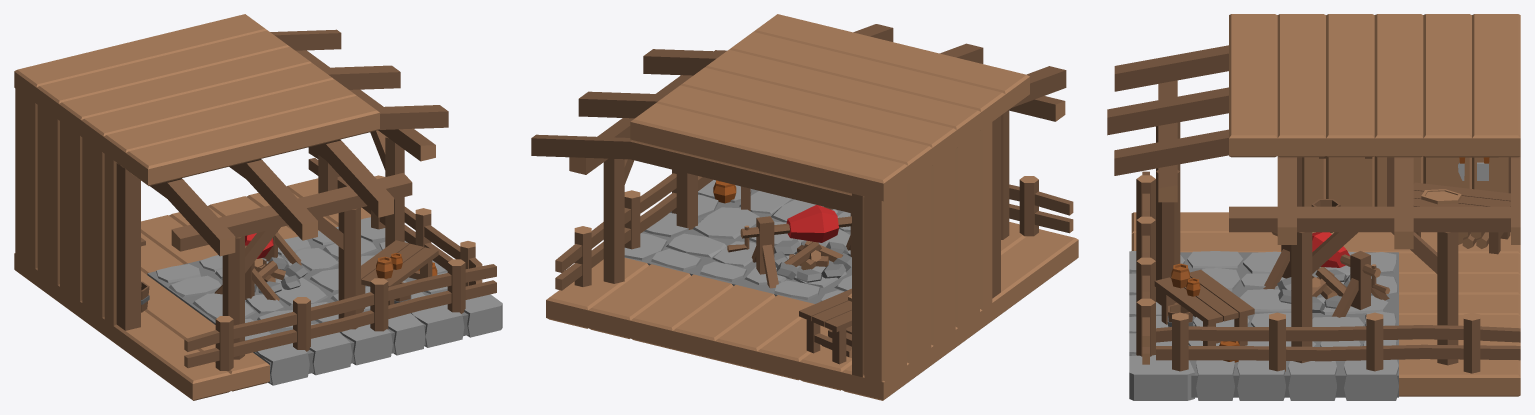
The model's file is Kitchen_Lvl_01_Corner_Left.fbx.
3 views of the same model, side by side, from view 1: azimuth 30°, elevation 25°; view 2: azimuth 150°, elevation 25°; view 3: azimuth 270°, elevation 25° (orthographic). The views are drawn at different scales.
Parts seen in each view (by area): view 1: Kitchen_Lvl_01_Corner_Left; view 2: Kitchen_Lvl_01_Corner_Left; view 3: Kitchen_Lvl_01_Corner_Left.
Part boxes in pixels (x1,y1,x2,y2): Kitchen_Lvl_01_Corner_Left: [14, 14, 502, 400]; Kitchen_Lvl_01_Corner_Left: [531, 14, 1078, 400]; Kitchen_Lvl_01_Corner_Left: [1107, 14, 1520, 400].
Size of the model in its own units: 8.5 by 5.05 by 8.5.
